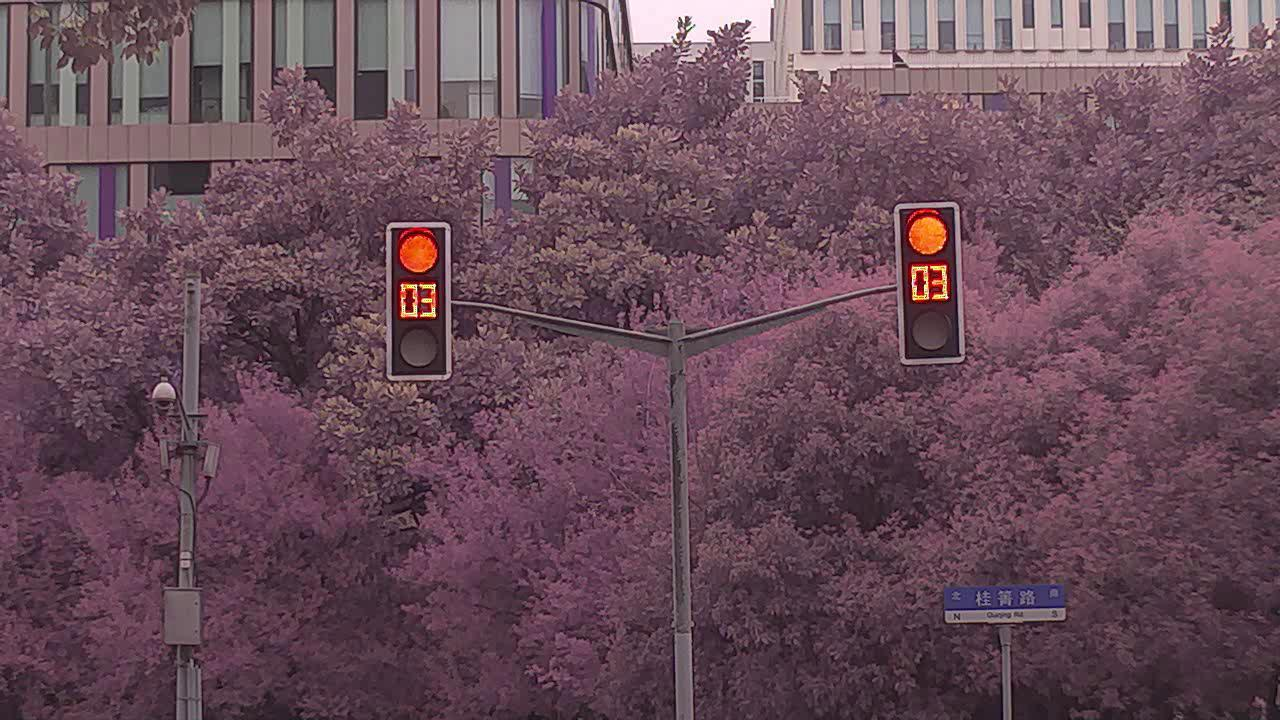traffic_light: (897, 208, 971, 367), (387, 227, 454, 379)
